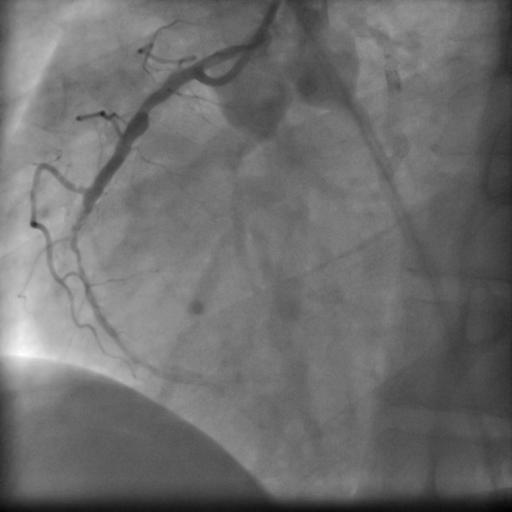Stenosis: (136, 87, 159, 122)
